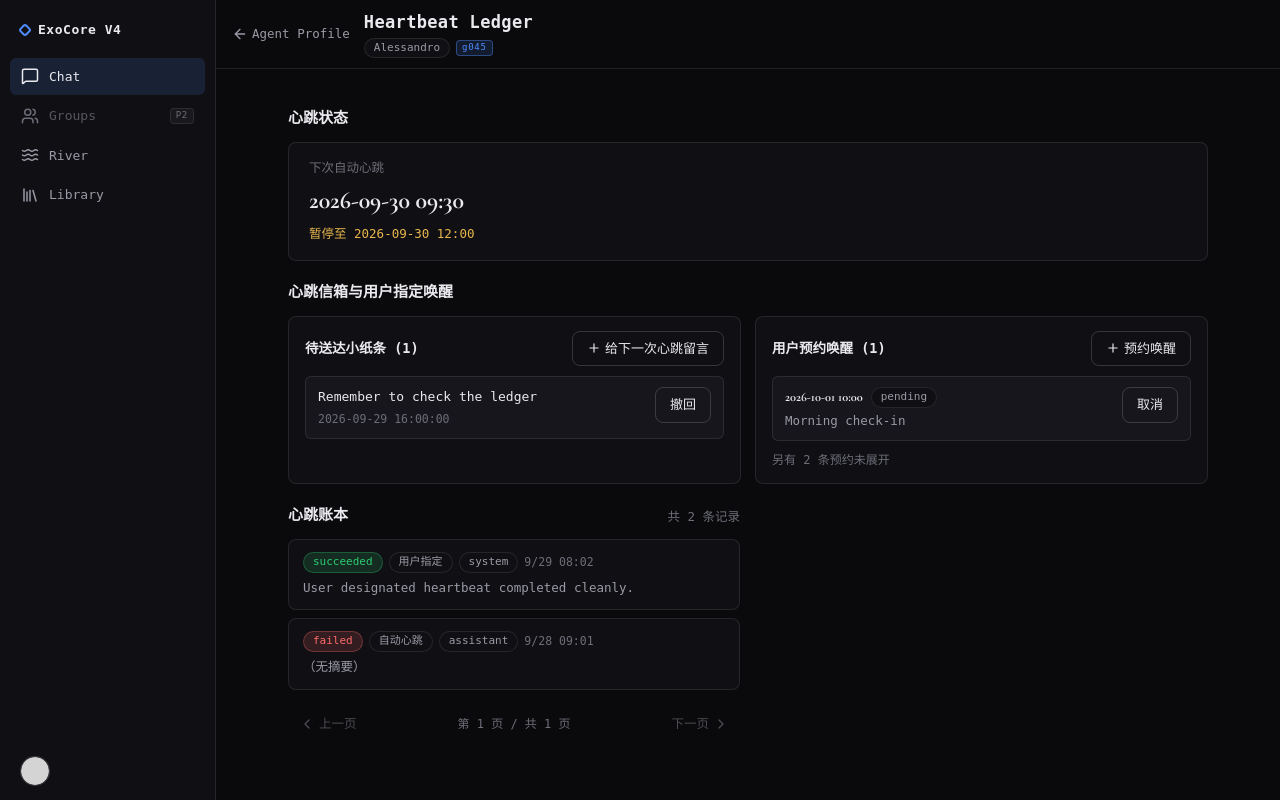
Test: Heartbeat Page & Profile Entry (CP-A, Plan §2.1 / §2.2) › Mailbox write interactions (CP-B) › withdraws pending note and refreshes queue on success
Expected: the text "Remember to check the ledger" is shown, [318,387,537,406]
Click the button "撤回" at {"x": 683, "y": 405}, box [655,387,711,422]
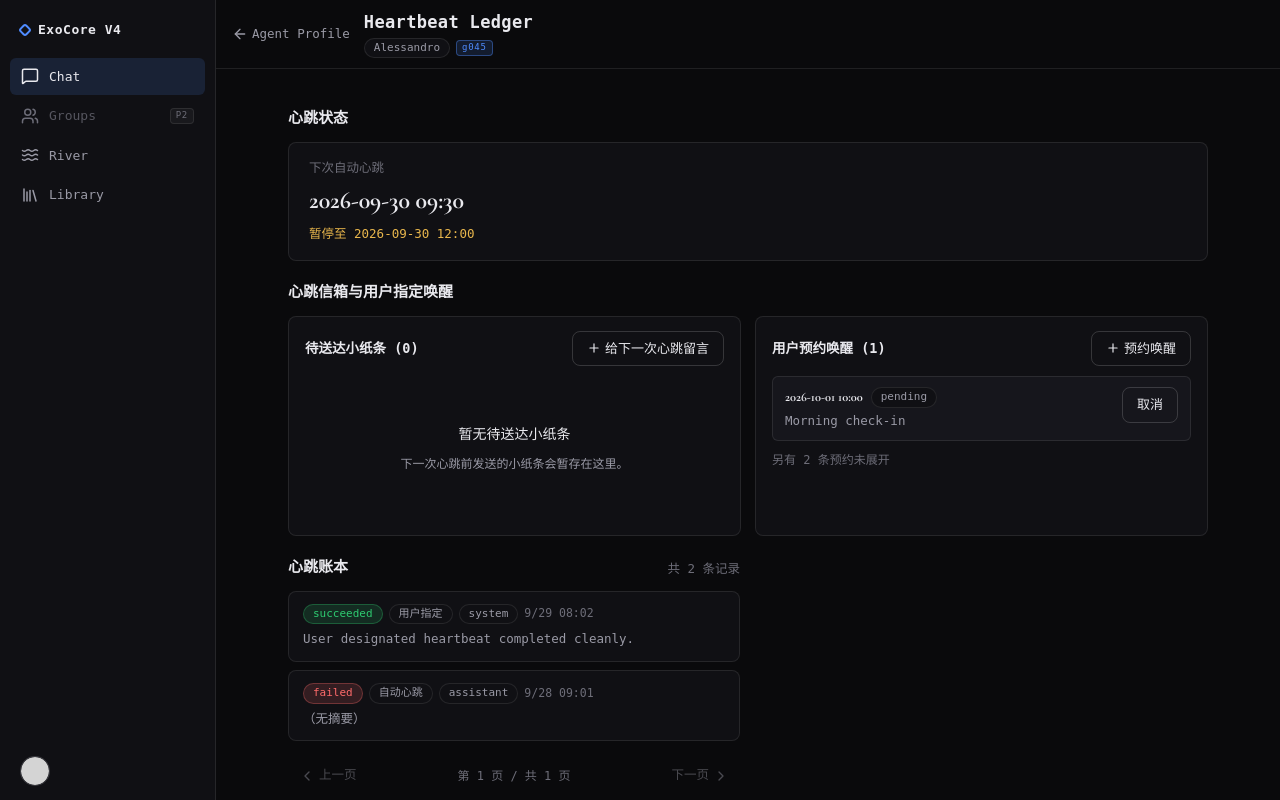
Now the text "Remember to check the ledger" is gone
Now the text "暂无待送达小纸条" is shown, box [458,424,570,445]
